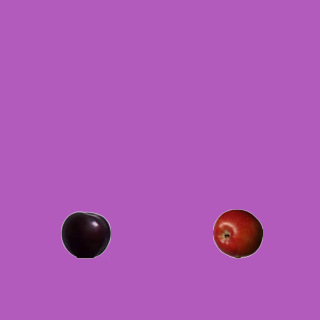Apple Braeburn: (212, 208, 262, 258)
Cherry Wax Black: (60, 209, 110, 259)
